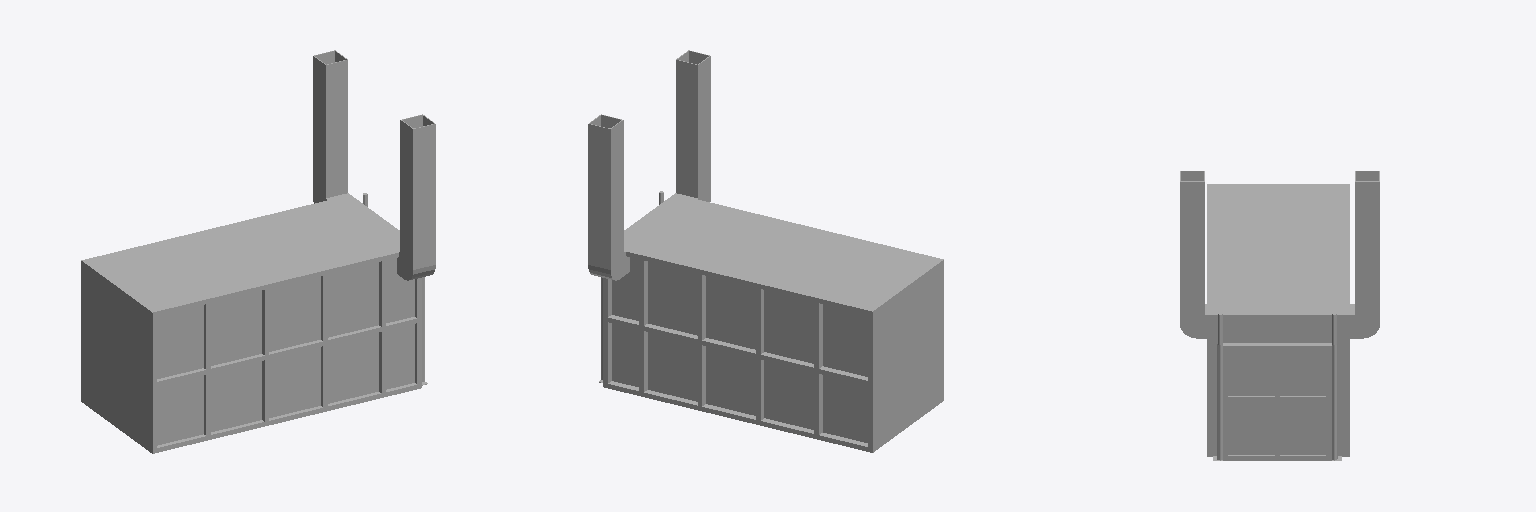
The model's file is AirCooling.obj.
3 renders of one model, left to right at view 1: azimuth 30°, elevation 25°; view 2: azimuth 150°, elevation 25°; view 3: azimuth 270°, elevation 25°, orthographic.
Visible parts, largest first — view 1: Air_Cooling_Sytem_v1.001; view 2: Air_Cooling_Sytem_v1.001; view 3: Air_Cooling_Sytem_v1.001.
Part boxes in pixels (bbox=[...]): Air_Cooling_Sytem_v1.001: bbox=[81, 50, 435, 453]; Air_Cooling_Sytem_v1.001: bbox=[588, 50, 943, 452]; Air_Cooling_Sytem_v1.001: bbox=[1180, 171, 1379, 460].
Bounding box in the file's own units: 311 × 292 × 194.